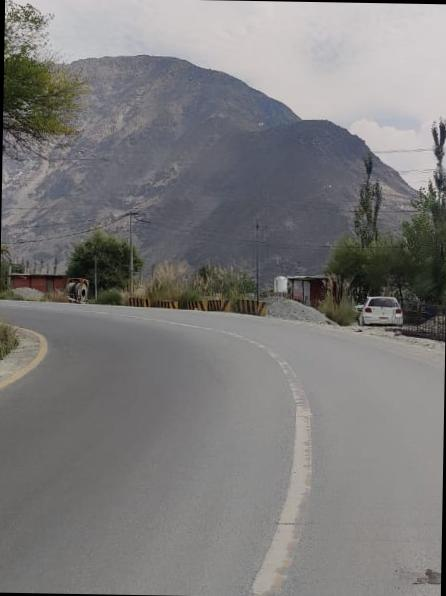right_turn: (0, 211, 387, 415)
